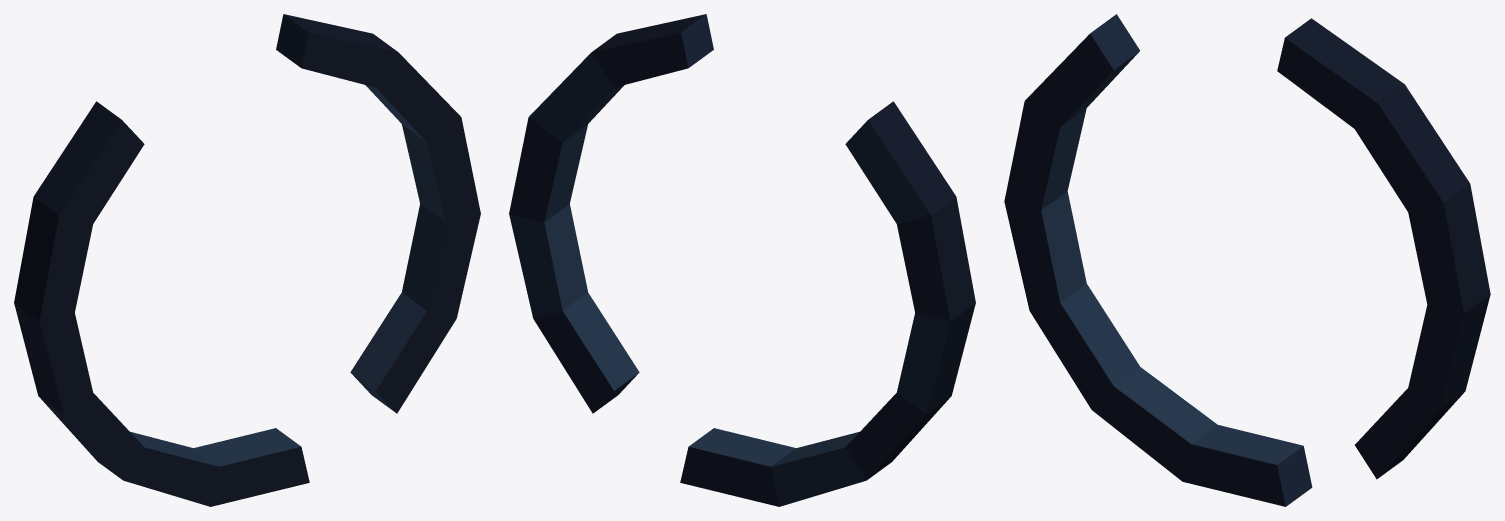
Rendered from background_arch.obj.
The picture shows the model from 3 angles, left to right: view 1: azimuth 30°, elevation 25°; view 2: azimuth 150°, elevation 25°; view 3: azimuth 330°, elevation 25°; orthographic projection. The views are drawn at different scales.
Visible parts, largest first — view 1: background_arch_M0, background_arch_M2, background_arch_M1; view 2: background_arch_M0, background_arch_M1, background_arch_M2; view 3: background_arch_M0, background_arch_M2, background_arch_M1.
Part boxes in pixels (bbox=[...]): background_arch_M0: bbox=[14, 14, 480, 506]; background_arch_M2: bbox=[130, 85, 445, 466]; background_arch_M1: bbox=[276, 14, 395, 412]; background_arch_M0: bbox=[509, 14, 975, 506]; background_arch_M1: bbox=[509, 14, 950, 506]; background_arch_M2: bbox=[544, 85, 859, 466]; background_arch_M0: bbox=[1004, 18, 1490, 506]; background_arch_M2: bbox=[1041, 51, 1303, 464]; background_arch_M1: bbox=[1090, 14, 1312, 506].
Bounding box in the file's own units: 2 × 1.95 × 0.2.
